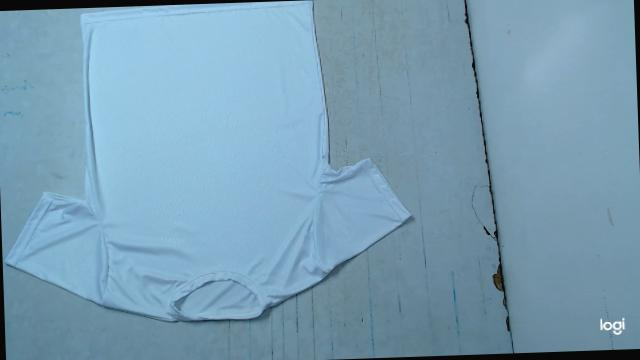new-garment: (5, 0, 410, 322)
